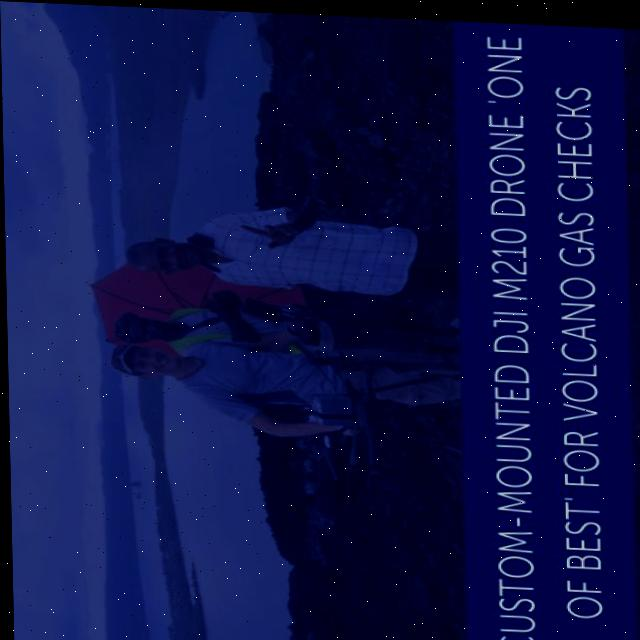drone: (302, 337, 398, 495)
